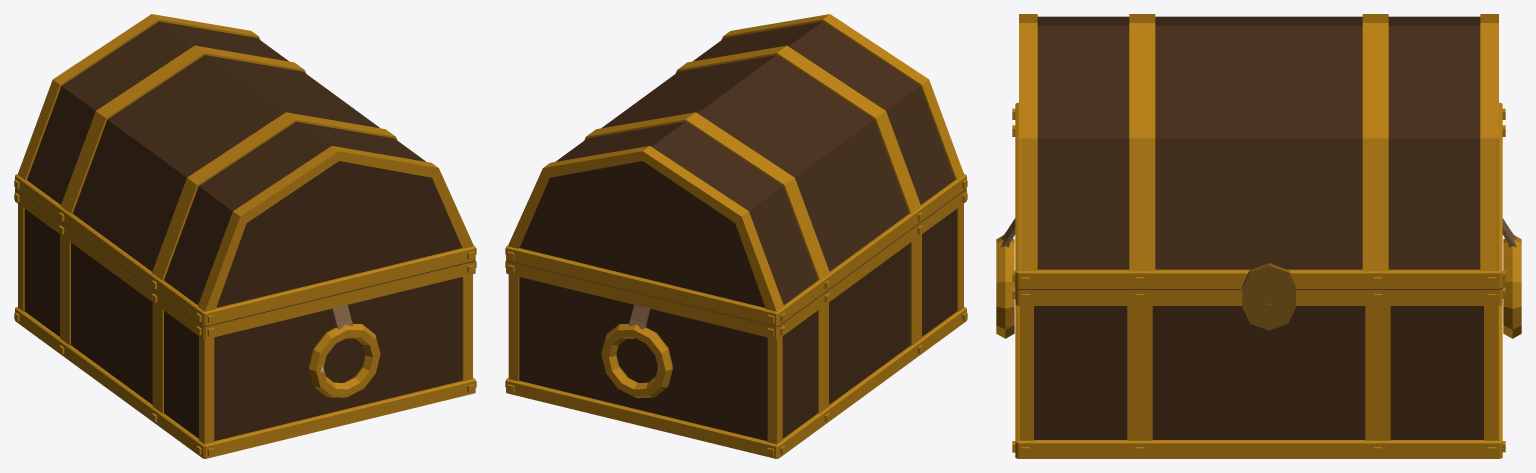
File: TreasureChest.fbx
3 views of the same model, side by side, from view 1: azimuth 30°, elevation 25°; view 2: azimuth 150°, elevation 25°; view 3: azimuth 270°, elevation 25° (orthographic). The views are drawn at different scales.
Visible parts, largest first — view 1: Lid, TreasureChest; view 2: Lid, TreasureChest; view 3: Lid, TreasureChest.
Part boxes in pixels (<box>): Lid: <box>14,14,476,326</box>; TreasureChest: <box>14,188,476,458</box>; Lid: <box>505,14,967,326</box>; TreasureChest: <box>505,188,967,458</box>; Lid: <box>1012,14,1505,330</box>; TreasureChest: <box>996,125,1521,458</box>.
Size of the model in its own units: 210 by 198 by 268.
